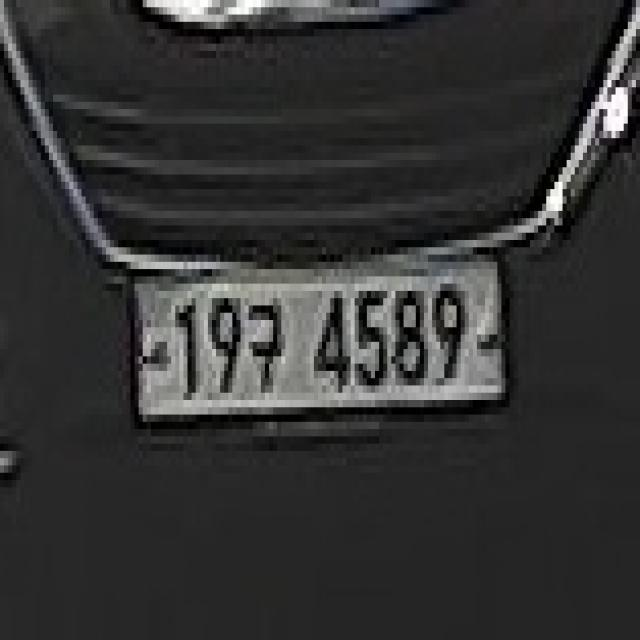1: (163, 284, 204, 414)
4: (310, 284, 350, 407)
5: (351, 276, 392, 400)
8: (391, 276, 428, 393)
9: (203, 284, 244, 407), (432, 269, 473, 386)
gu: (244, 284, 290, 407)
license_plate: (126, 240, 518, 444)
